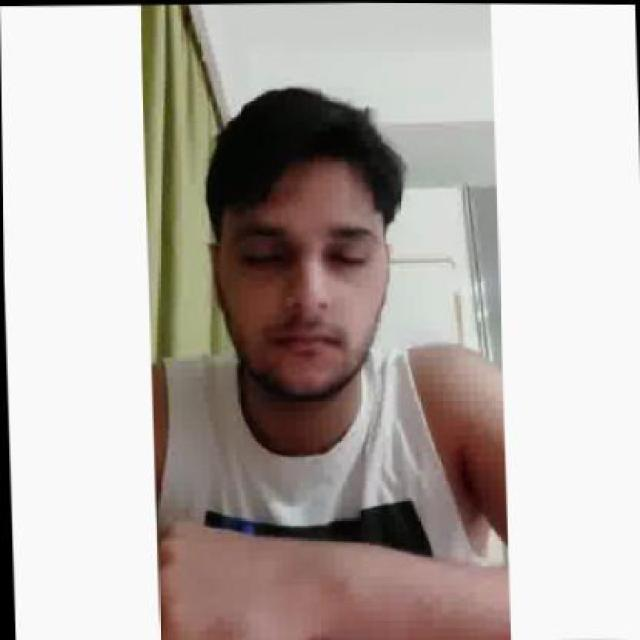inattentif: (202, 82, 395, 408)
